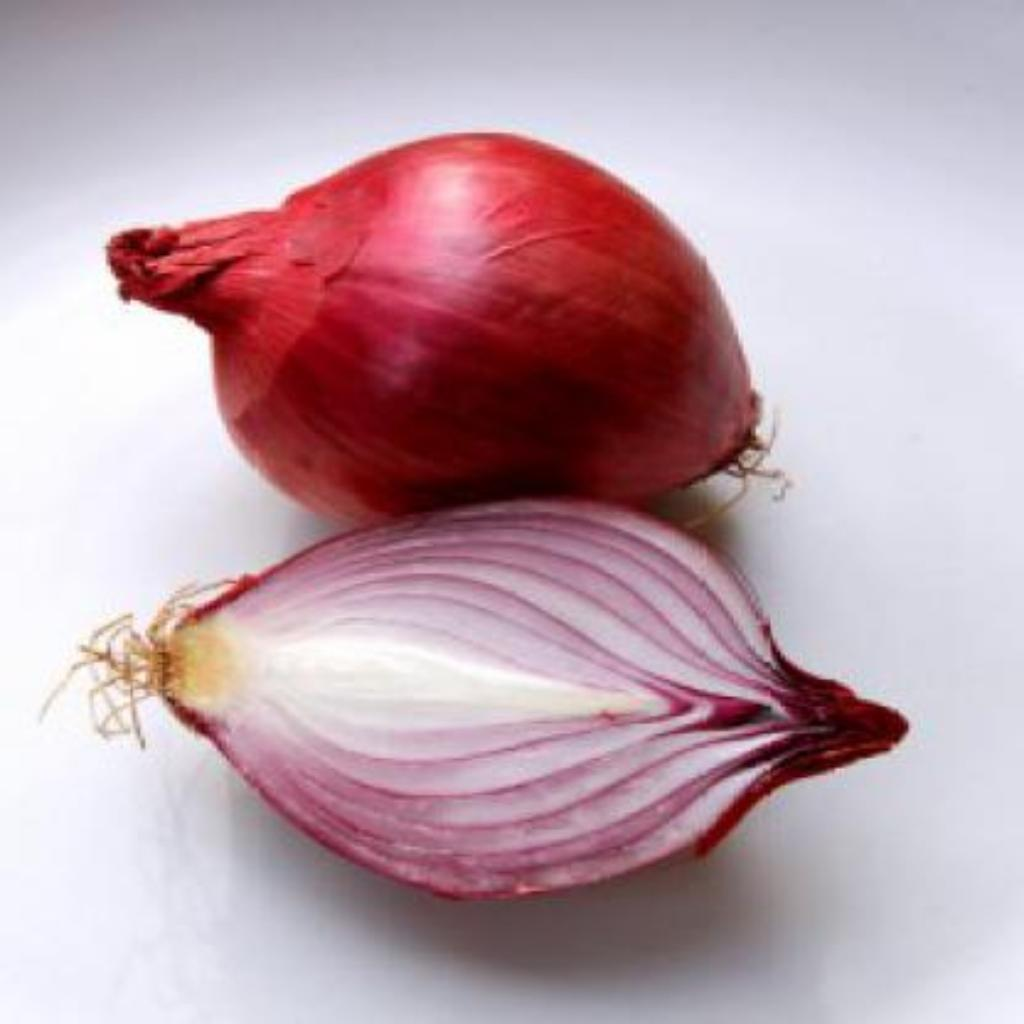Onion: (108, 133, 761, 523)
